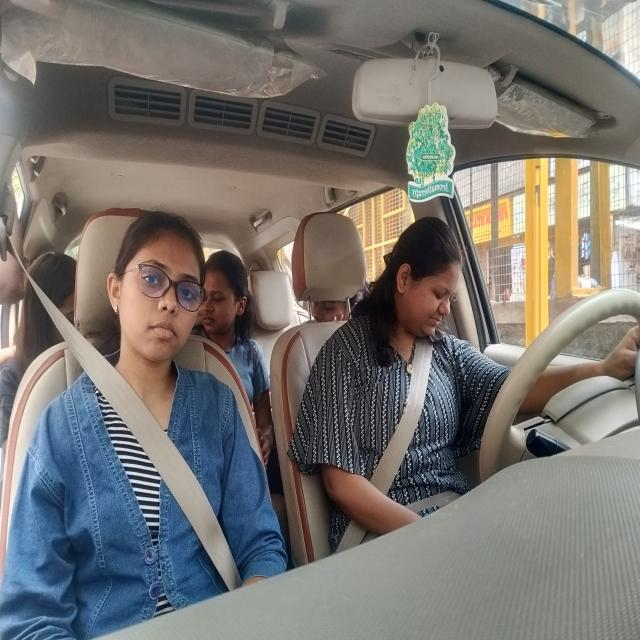drowsy: (386, 212, 462, 346)
person: (102, 212, 208, 366), (21, 252, 81, 363), (208, 246, 254, 336)
